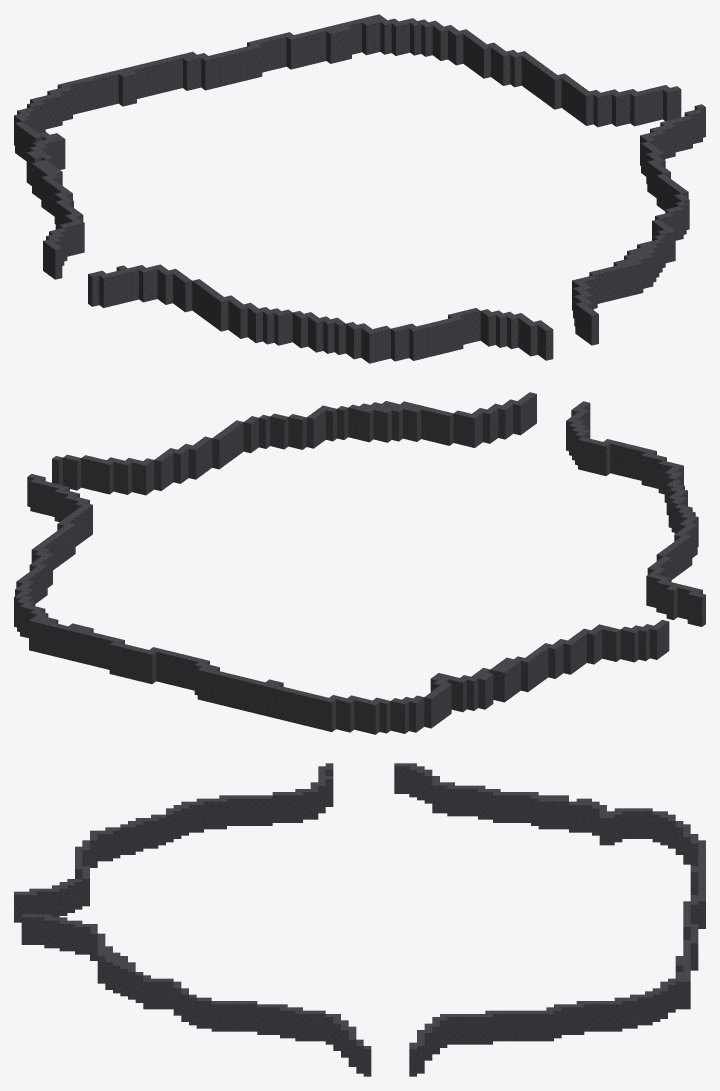
The model's file is Walls.fbx.
The picture shows the model from 3 angles, top to bottom: view 1: azimuth 30°, elevation 25°; view 2: azimuth 150°, elevation 25°; view 3: azimuth 270°, elevation 25°; orthographic projection. The views are drawn at different scales.
Size of the model in its own units: 8900 by 400 by 9100.
